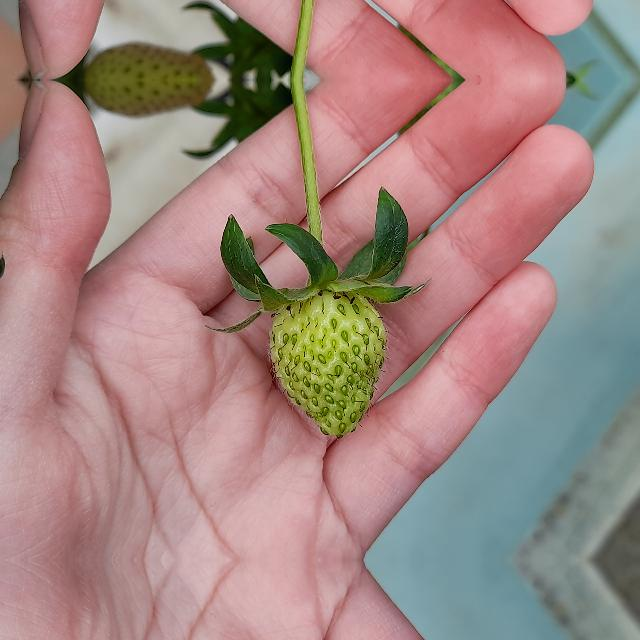Health_25: (269, 288, 387, 438)
